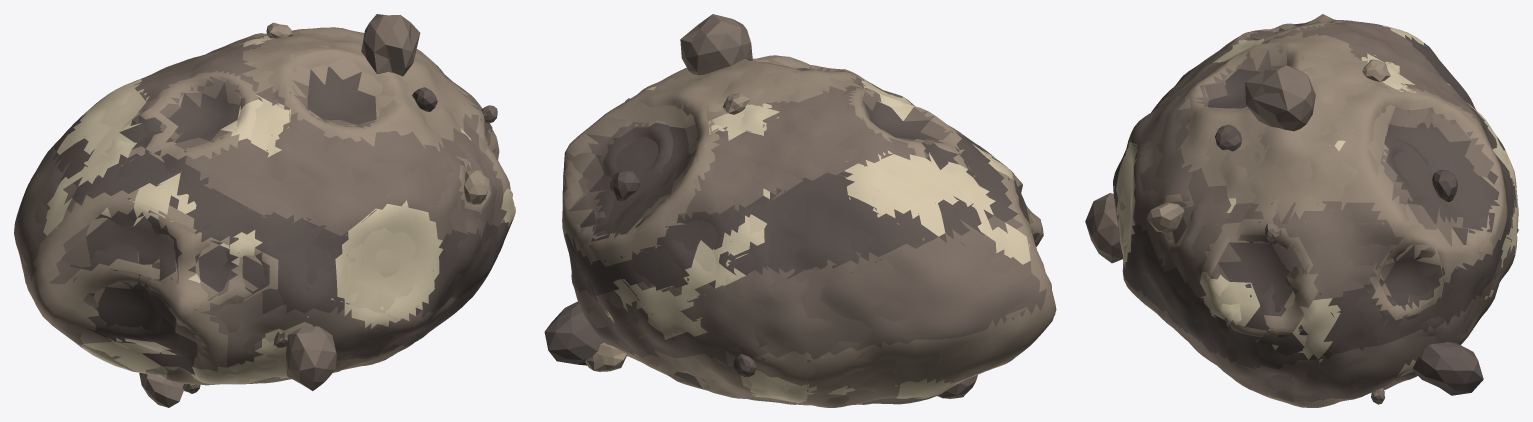
The model's file is asteroid.glb.
3 renders of one model, left to right at view 1: azimuth 30°, elevation 25°; view 2: azimuth 150°, elevation 25°; view 3: azimuth 270°, elevation 25°, orthographic.
Visible parts, largest first — view 1: lod0_Rock, lod0_RockLight, lod0_RockDark, lod1_RockDark, lod0_Regolith, lod1_Rock, lod1_Regolith, lod1_RockLight; view 2: lod0_Rock, lod0_RockLight, lod0_RockDark, lod1_Rock, lod0_Regolith, lod1_RockDark, lod1_RockLight, lod1_Regolith; view 3: lod0_Rock, lod0_RockLight, lod0_RockDark, lod1_RockDark, lod1_Rock, lod1_RockLight, lod0_Regolith, lod1_Regolith.
Part boxes in pixels (x1=…): lod0_Rock: x1=14, y1=14, x2=504, y2=407; lod0_RockLight: x1=18, y1=22, x2=514, y2=385; lod0_RockDark: x1=52, y1=75, x2=509, y2=366; lod1_RockDark: x1=49, y1=66, x2=513, y2=374; lod0_Regolith: x1=43, y1=36, x2=515, y2=384; lod1_Rock: x1=14, y1=28, x2=510, y2=360; lod1_Regolith: x1=56, y1=34, x2=514, y2=384; lod1_RockLight: x1=21, y1=29, x2=502, y2=384; lod0_Rock: x1=572, y1=14, x2=1046, y2=404; lod0_RockLight: x1=562, y1=55, x2=1056, y2=407; lod0_RockDark: x1=544, y1=117, x2=1039, y2=377; lod1_Rock: x1=569, y1=68, x2=1050, y2=404; lod0_Regolith: x1=605, y1=78, x2=1030, y2=402; lod1_RockDark: x1=565, y1=68, x2=1037, y2=388; lod1_RockLight: x1=562, y1=55, x2=1055, y2=405; lod1_Regolith: x1=614, y1=80, x2=1029, y2=401; lod0_Rock: x1=1085, y1=20, x2=1518, y2=404; lod0_RockLight: x1=1147, y1=14, x2=1507, y2=407; lod0_RockDark: x1=1113, y1=20, x2=1518, y2=395; lod1_RockDark: x1=1114, y1=23, x2=1514, y2=386; lod1_Rock: x1=1132, y1=21, x2=1516, y2=402; lod1_RockLight: x1=1168, y1=18, x2=1506, y2=404; lod0_Regolith: x1=1116, y1=25, x2=1518, y2=376; lod1_Regolith: x1=1114, y1=28, x2=1517, y2=362.
Bounding box in the file's own units: 8 × 5.42 × 6.42.
